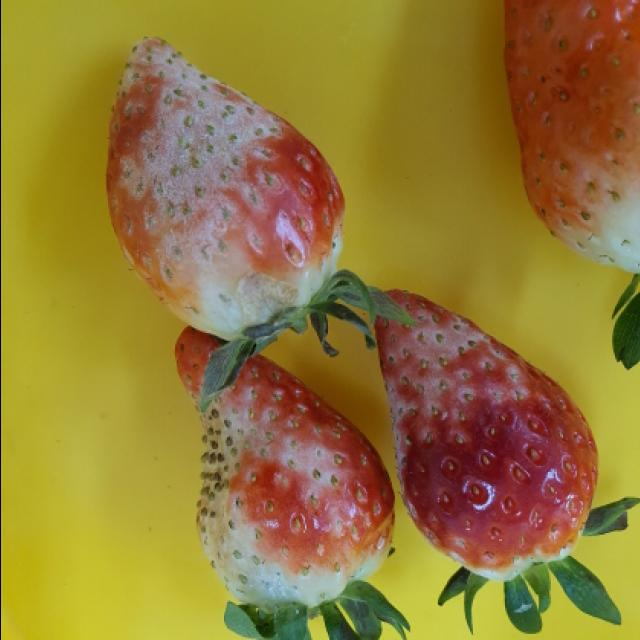Powdery Mildew Fruit: (104, 35, 343, 343), (374, 286, 600, 583), (172, 325, 394, 616)
